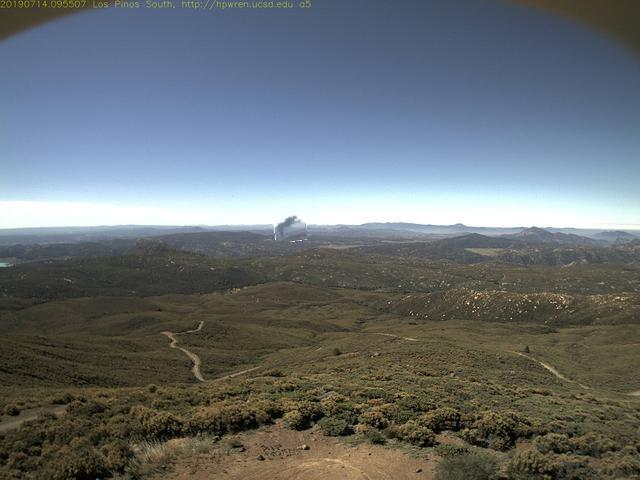smoke: (274, 208, 308, 243)
